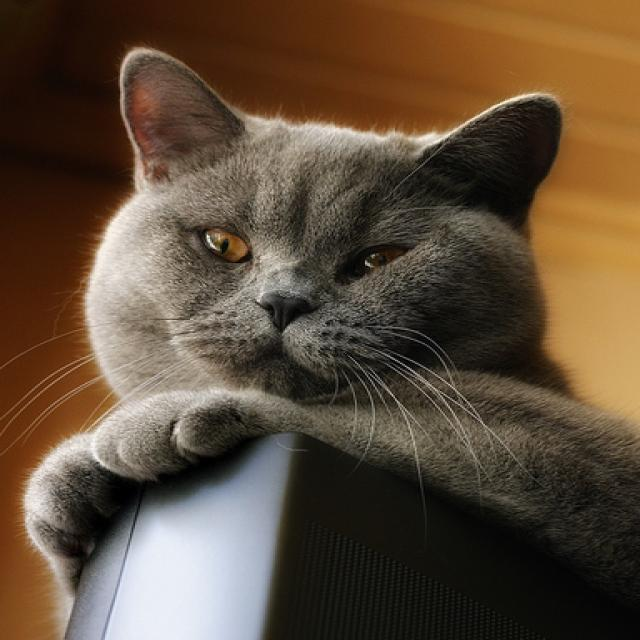British Shorthair: (11, 44, 640, 630)
